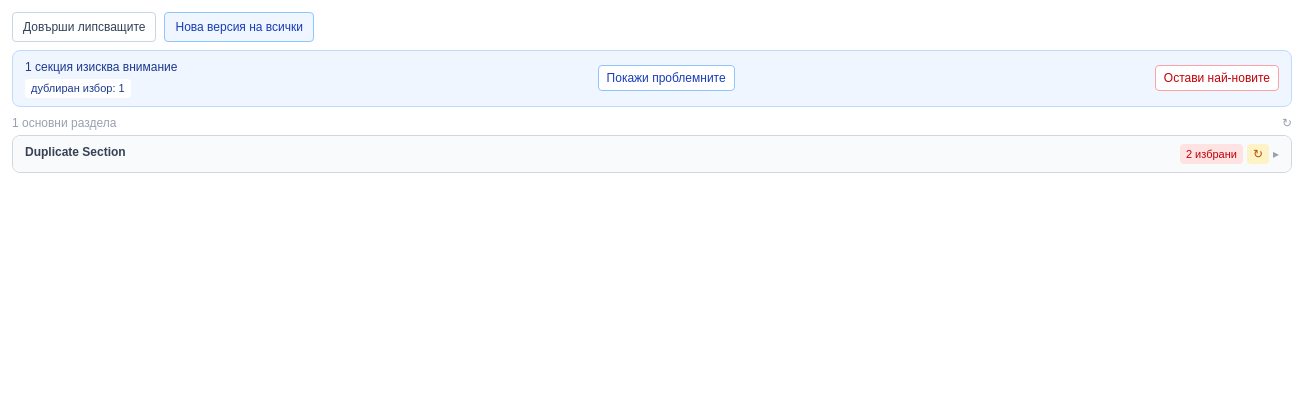
Test: GenerationsPanel › selects one variant to resolve duplicate selected generations
The width and height of the screenshot is (1304, 402).
Check: the text with test id "generation-duplicate-selected-badge-sec-duplicate" reads "2 избрани", box [1180, 144, 1243, 164]
Click the button "Duplicate Section" at [75, 152], box [25, 144, 1180, 160]
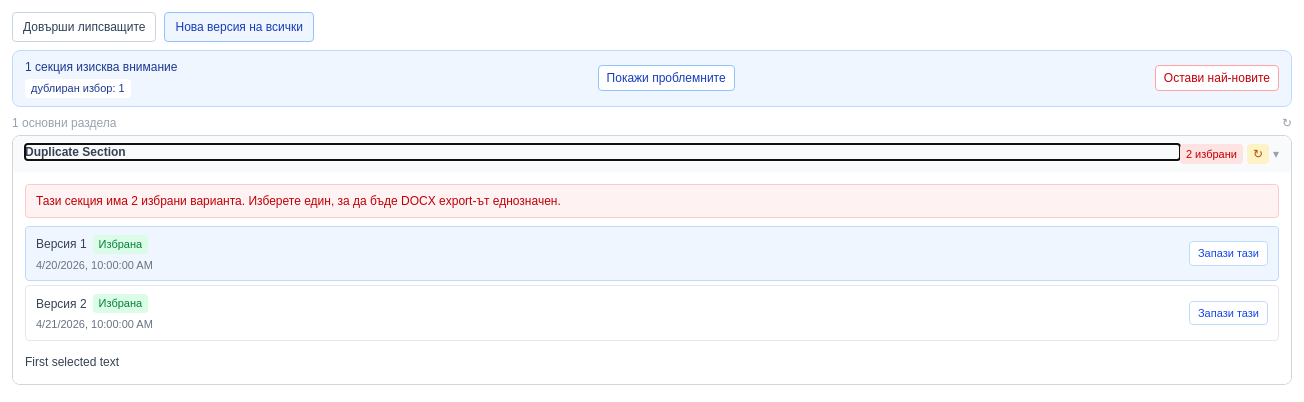
Check: the text with test id "generation-duplicate-selected-warning-sec-duplicate" shows "2 избрани варианта", box [25, 184, 1279, 218]
Click the button with test id "generation-select-gen-2" at [1228, 313], box [1189, 301, 1268, 326]
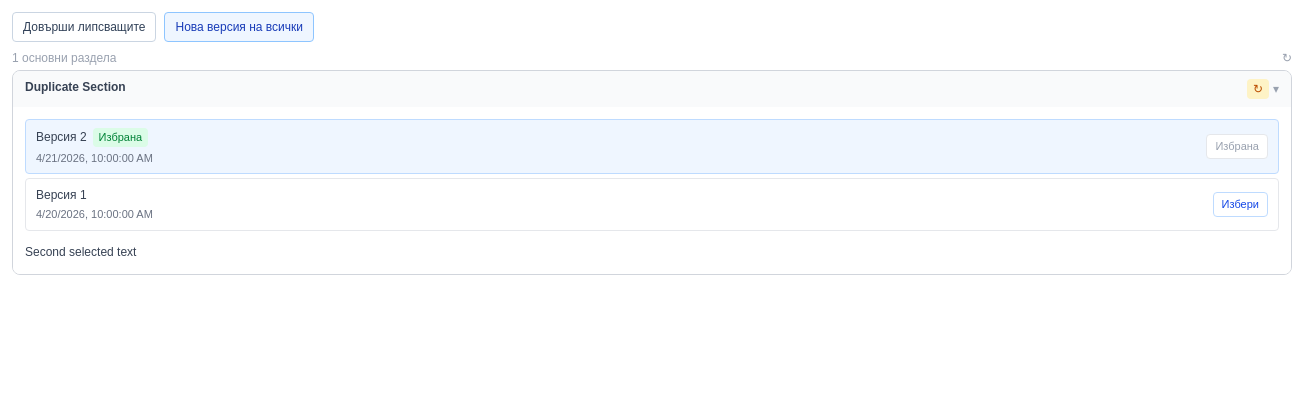
Check: the text with test id "generation-duplicate-selected-warning-sec-duplicate" is gone
